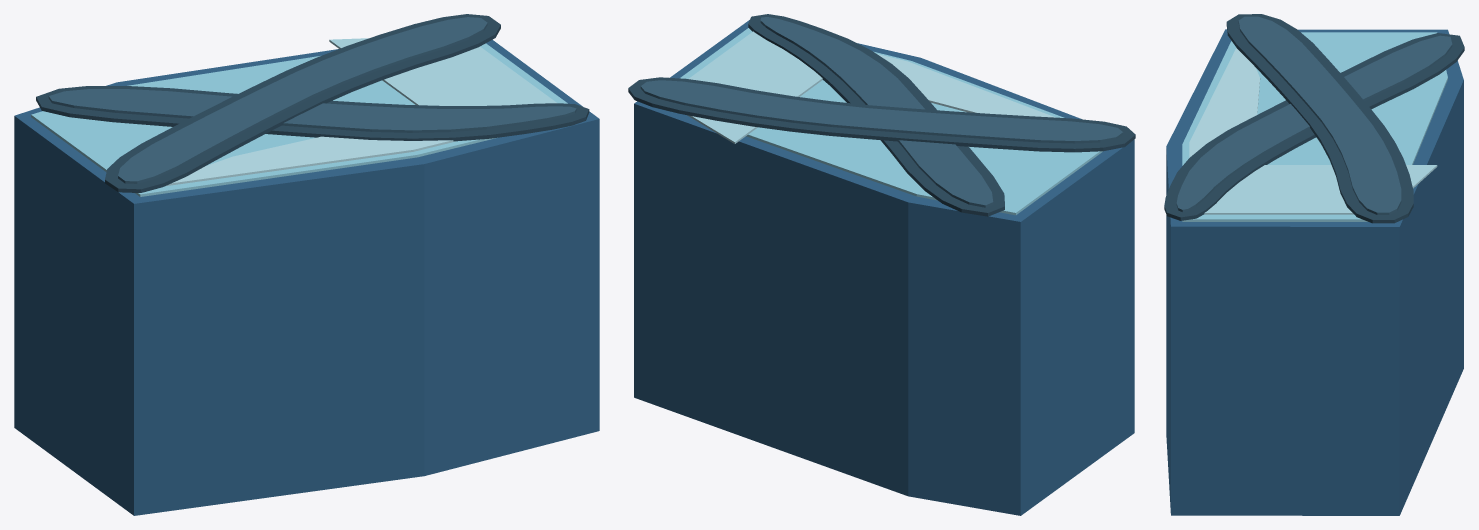
The model's file is bag_cubo_gelo.fbx.
The picture shows the model from 3 angles, left to right: view 1: azimuth 30°, elevation 25°; view 2: azimuth 150°, elevation 25°; view 3: azimuth 270°, elevation 25°; orthographic projection. The views are drawn at different scales.
Parts seen in each view (by area): view 1: bag_cubo_gelo_mochila; view 2: bag_cubo_gelo_mochila; view 3: bag_cubo_gelo_mochila.
Part boxes in pixels (x1=…): bag_cubo_gelo_mochila: x1=14, y1=14, x2=599, y2=515; bag_cubo_gelo_mochila: x1=628, y1=14, x2=1135, y2=515; bag_cubo_gelo_mochila: x1=1164, y1=14, x2=1464, y2=515.
Size of the model in its own units: 2.75 by 1.89 by 1.7.
1 material, 1 textured.
